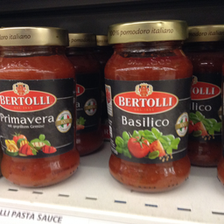tomato_sauce: (102, 16, 193, 194), (1, 29, 78, 189)
